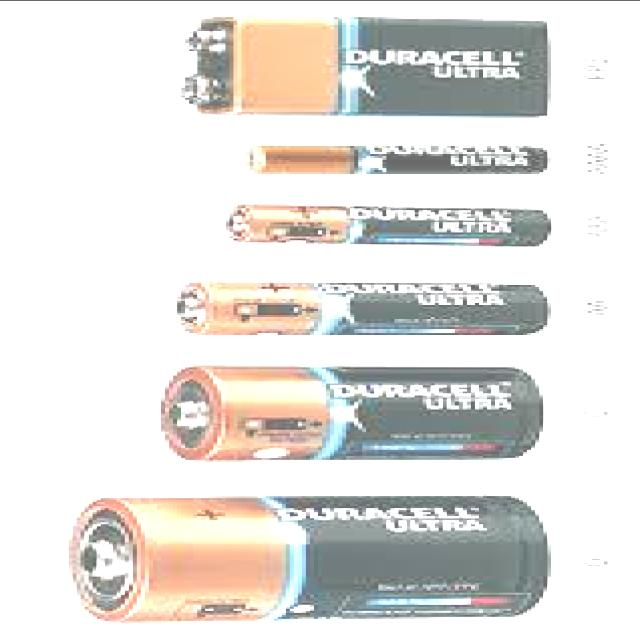AA: (168, 278, 559, 337)
AAA: (219, 201, 555, 248)
